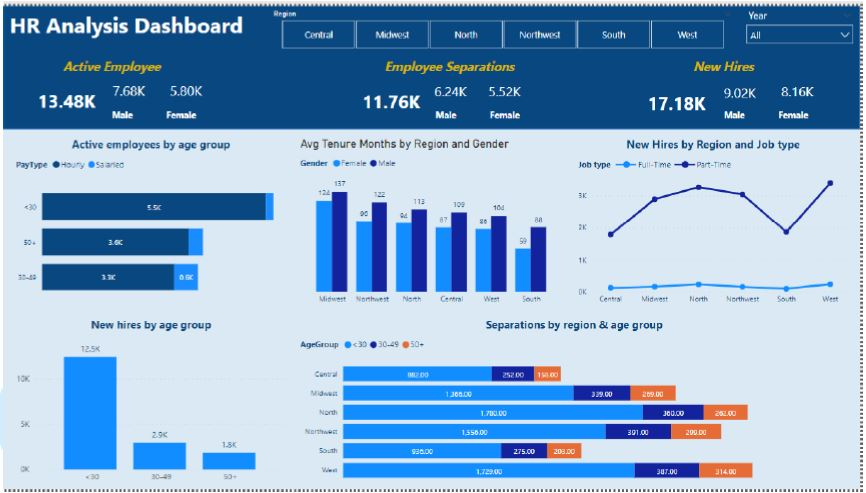

The page's visual inventory and layout, read from the dashboard file:
{"tool":"powerbi","page":{"name":"Page 1","canvas":[1280,720],"ordinal":0},"visuals":[{"type":"textbox","box":[89.2,86.8,178.5,36.2],"z":0},{"type":"textbox","box":[30.2,25.3,329.2,48.2],"z":1000},{"type":"slicer","fields":{"Values":["Date.Year"]},"box":[1145.7,16.9,120.6,59.1],"z":2000},{"type":"slicer","title":"Region","fields":{"Values":["BU.Region"]},"box":[455.9,14.5,648.8,61.5],"z":3000},{"type":"card","fields":{"Values":["Key Measures.Actives"]},"box":[30.2,141.1,111,55.5],"z":4001},{"type":"card","fields":{"Values":["Key Measures.Male Actives"]},"box":[143.5,132.7,102.5,72.4],"z":4002},{"type":"card","fields":{"Values":["Key Measures.Female Emp Actives"]},"box":[246,132.7,103.7,72.4],"z":4003},{"type":"barChart","title":"Active Employees by AgeGroupe","fields":{"Category":["AgeGroup.AgeGroup"],"Y":["Key Measures.Actives"],"Series":["PayType.PayType"]},"box":[6,219.5,384.7,199],"z":4004},{"type":"shape","box":[0,200.2,1279.6,8.4],"z":4005},{"type":"clusteredColumnChart","fields":{"Category":["AgeGroup.AgeGroup"],"Y":["Key Measures.New Hires"]},"box":[6,434.2,384.7,235.2],"z":4006},{"type":"clusteredColumnChart","fields":{"Y":["Key Measures.Avg Tenure Months"],"Series":["Gender.Gender"],"Category":["BU.Region"]},"box":[399.2,219.5,460.7,199],"z":4007},{"type":"barChart","fields":{"Series":["AgeGroup.AgeGroup"],"Category":["BU.Region"],"Y":["Key Measures.Separations"]},"box":[399.2,434.2,460.7,235.2],"z":4008},{"type":"lineChart","fields":{"Series":["FP.Job type"],"Y":["Key Measures.New Hires"],"Category":["BU.Region"]},"box":[881.6,219.5,384.7,253.3],"z":4009}]}

Visuals, with their boxes in screenshot pixels (x1, y1, x2, y2), scaled from the page's 1280x720 canvas onto the 866x493 screenshot:
textbox: [x1=60, y1=59, x2=181, y2=84]
textbox: [x1=20, y1=17, x2=243, y2=50]
slicer - Date.Year: [x1=775, y1=12, x2=857, y2=52]
"Region" slicer: [x1=308, y1=10, x2=747, y2=52]
card - Key Measures.Actives: [x1=20, y1=97, x2=96, y2=135]
card - Key Measures.Male Actives: [x1=97, y1=91, x2=166, y2=140]
card - Key Measures.Female Emp Actives: [x1=166, y1=91, x2=237, y2=140]
"Active Employees by AgeGroupe" barChart: [x1=4, y1=150, x2=264, y2=287]
shape: [x1=0, y1=137, x2=865, y2=143]
clusteredColumnChart - AgeGroup.AgeGroup x Key Measures.New Hires: [x1=4, y1=297, x2=264, y2=458]
clusteredColumnChart - Key Measures.Avg Tenure Months x Gender.Gender: [x1=270, y1=150, x2=582, y2=287]
barChart - AgeGroup.AgeGroup x BU.Region: [x1=270, y1=297, x2=582, y2=458]
lineChart - FP.Job type x Key Measures.New Hires: [x1=596, y1=150, x2=857, y2=324]
